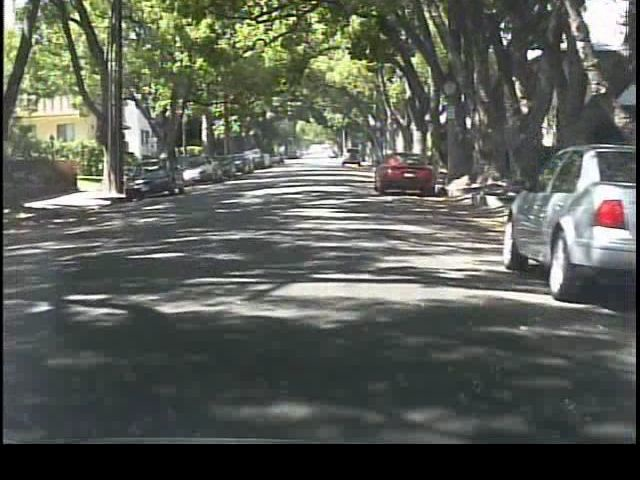person: (157, 149, 177, 186)
